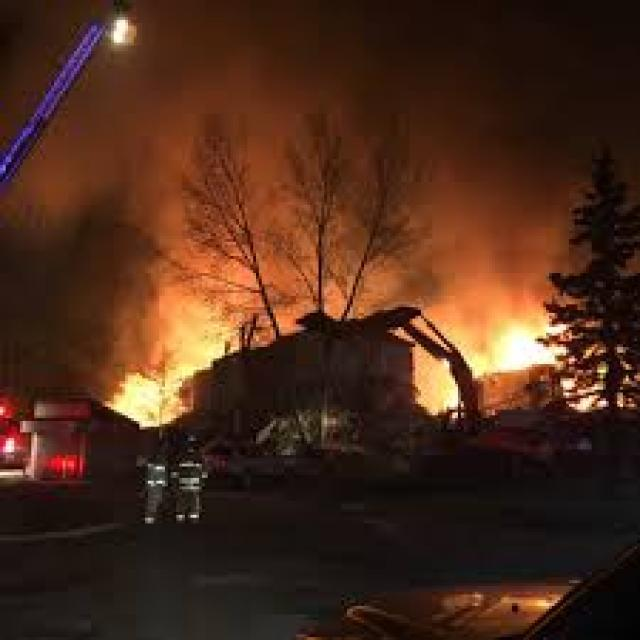Fire: (107, 312, 216, 430), (474, 296, 577, 387)
